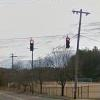Traffic light: (24, 33, 73, 55)
